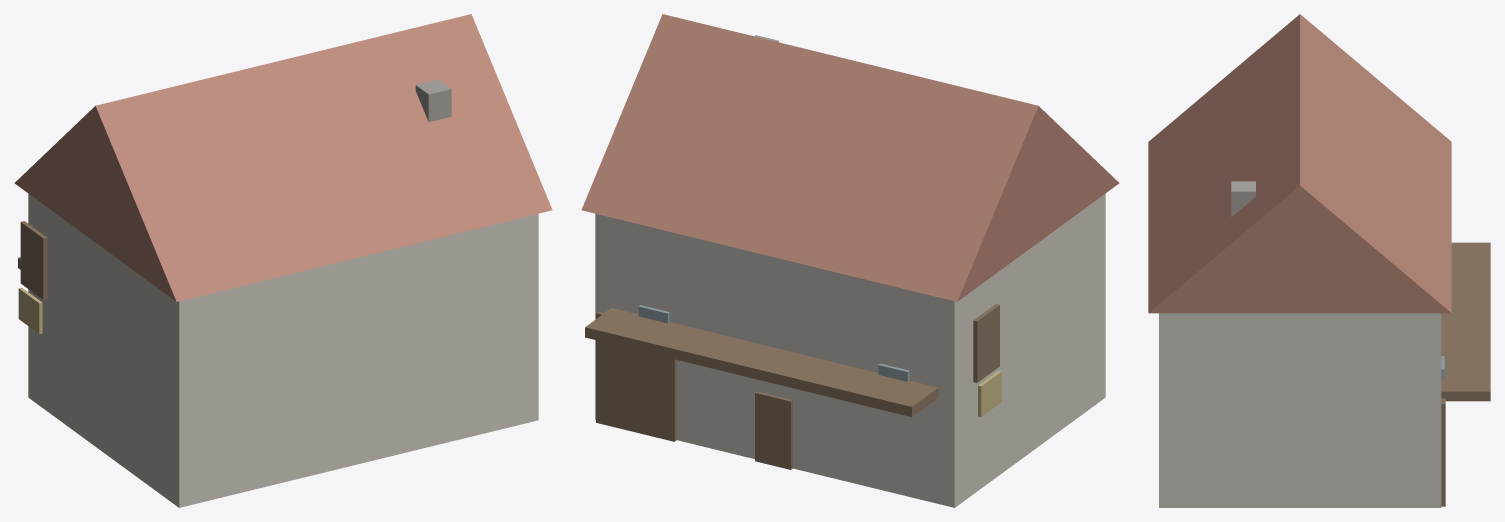
The picture shows the model from 3 angles, left to right: view 1: azimuth 30°, elevation 25°; view 2: azimuth 150°, elevation 25°; view 3: azimuth 270°, elevation 25°; orthographic projection. The views are drawn at different scales.
Parts seen in each view (by area): view 1: architecture.inn; view 2: architecture.inn; view 3: architecture.inn.
Part boxes in pixels (x1,y1,x2,y2): architecture.inn: (14, 14, 552, 507); architecture.inn: (581, 14, 1119, 507); architecture.inn: (1148, 14, 1490, 507).
Size of the model in its own units: 11.8 by 10.2 by 9.7.
